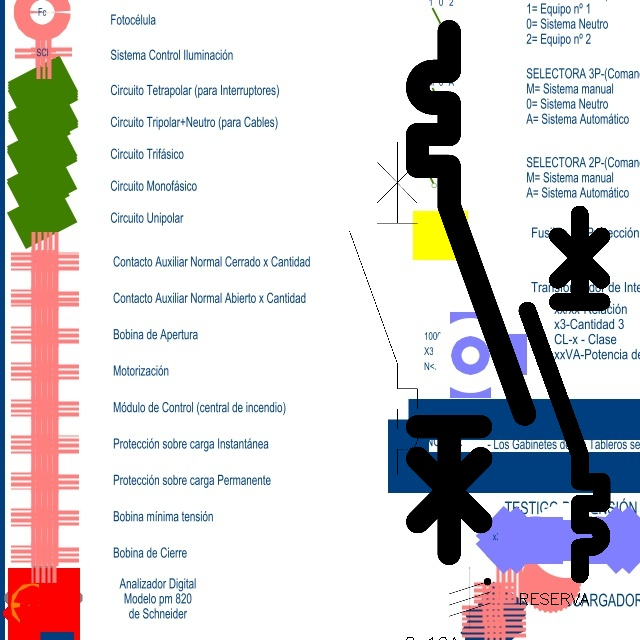interruptor_termomagnetico: (404, 18, 538, 567), (518, 205, 611, 584), (341, 134, 426, 483)
